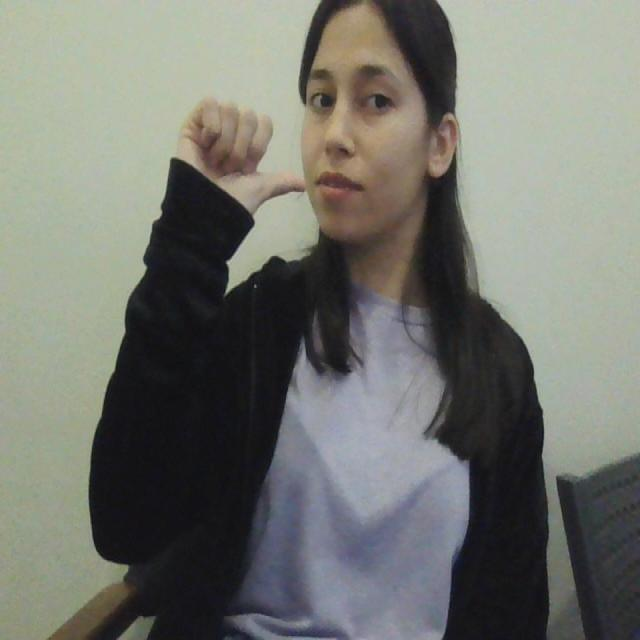icmek: (158, 91, 345, 230)
